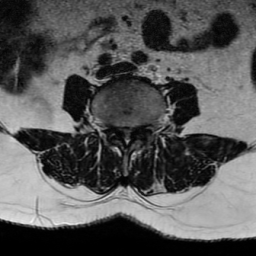CCS_normal: (122, 121, 130, 149)
LFS_severe_stenosis: (137, 119, 144, 139)
LLS_severe_stenosis: (130, 120, 137, 143)
RFS_severe_stenosis: (108, 116, 115, 140)
RLS_severe_stenosis: (115, 121, 122, 143)
